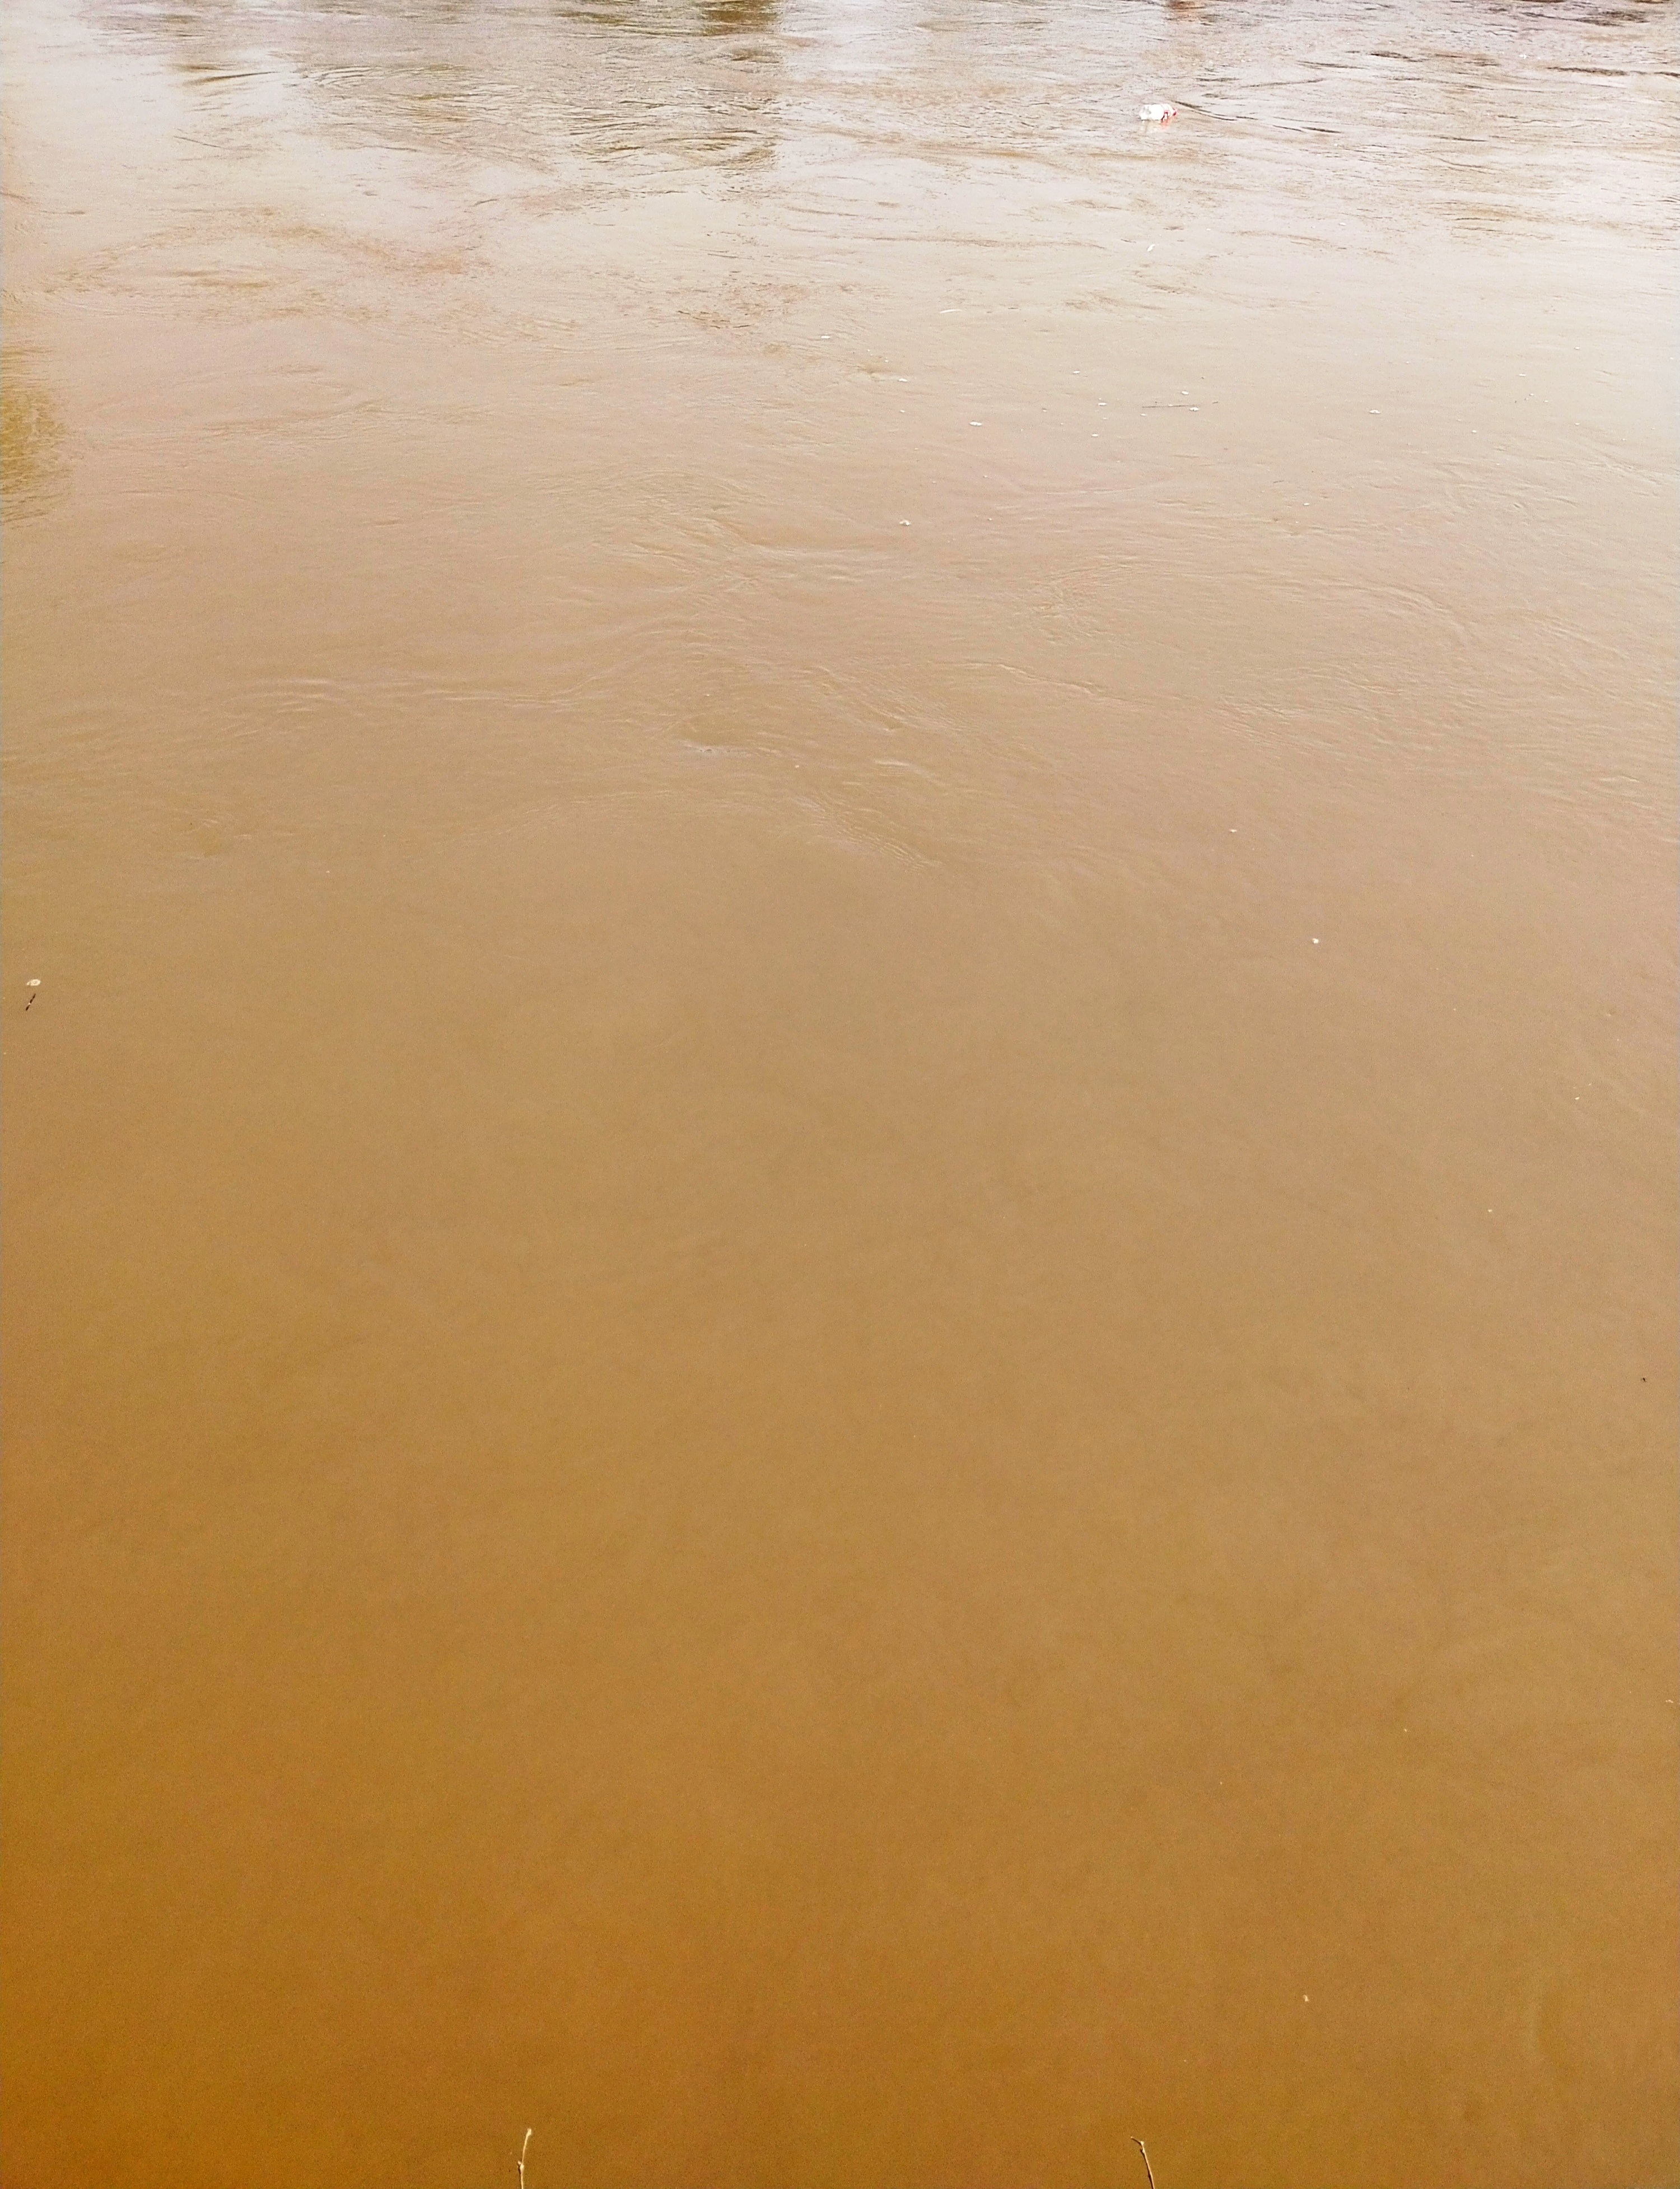Plastic Bottle: (1138, 102, 1175, 122)
